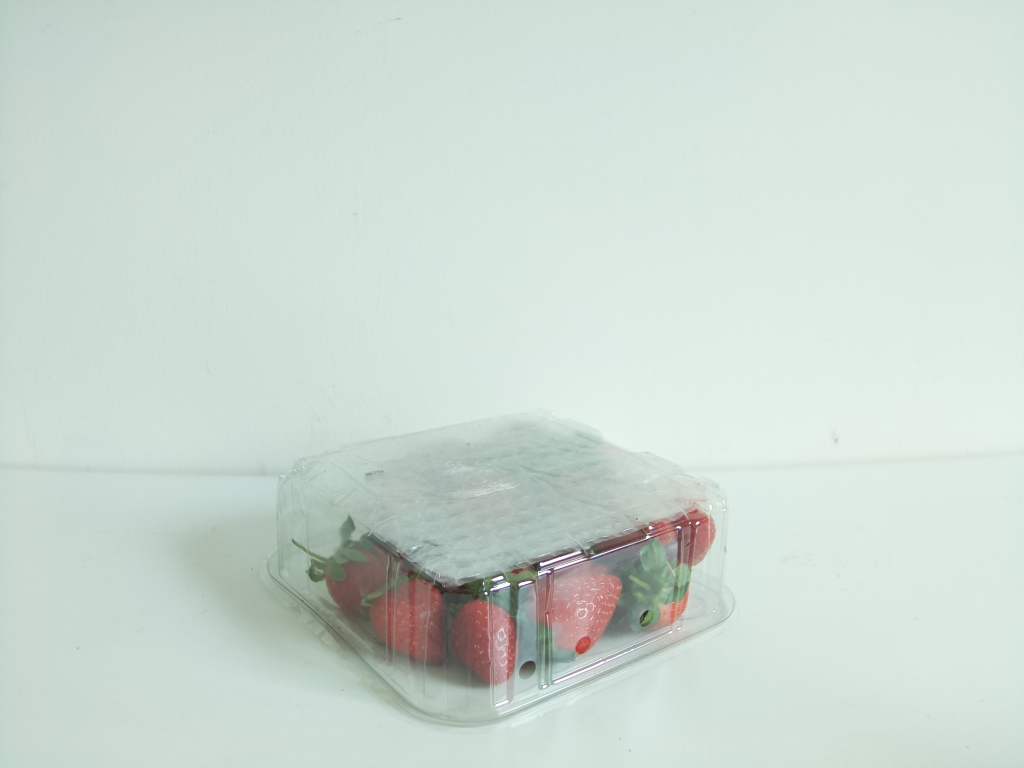soft-fruit: (261, 405, 745, 726)
